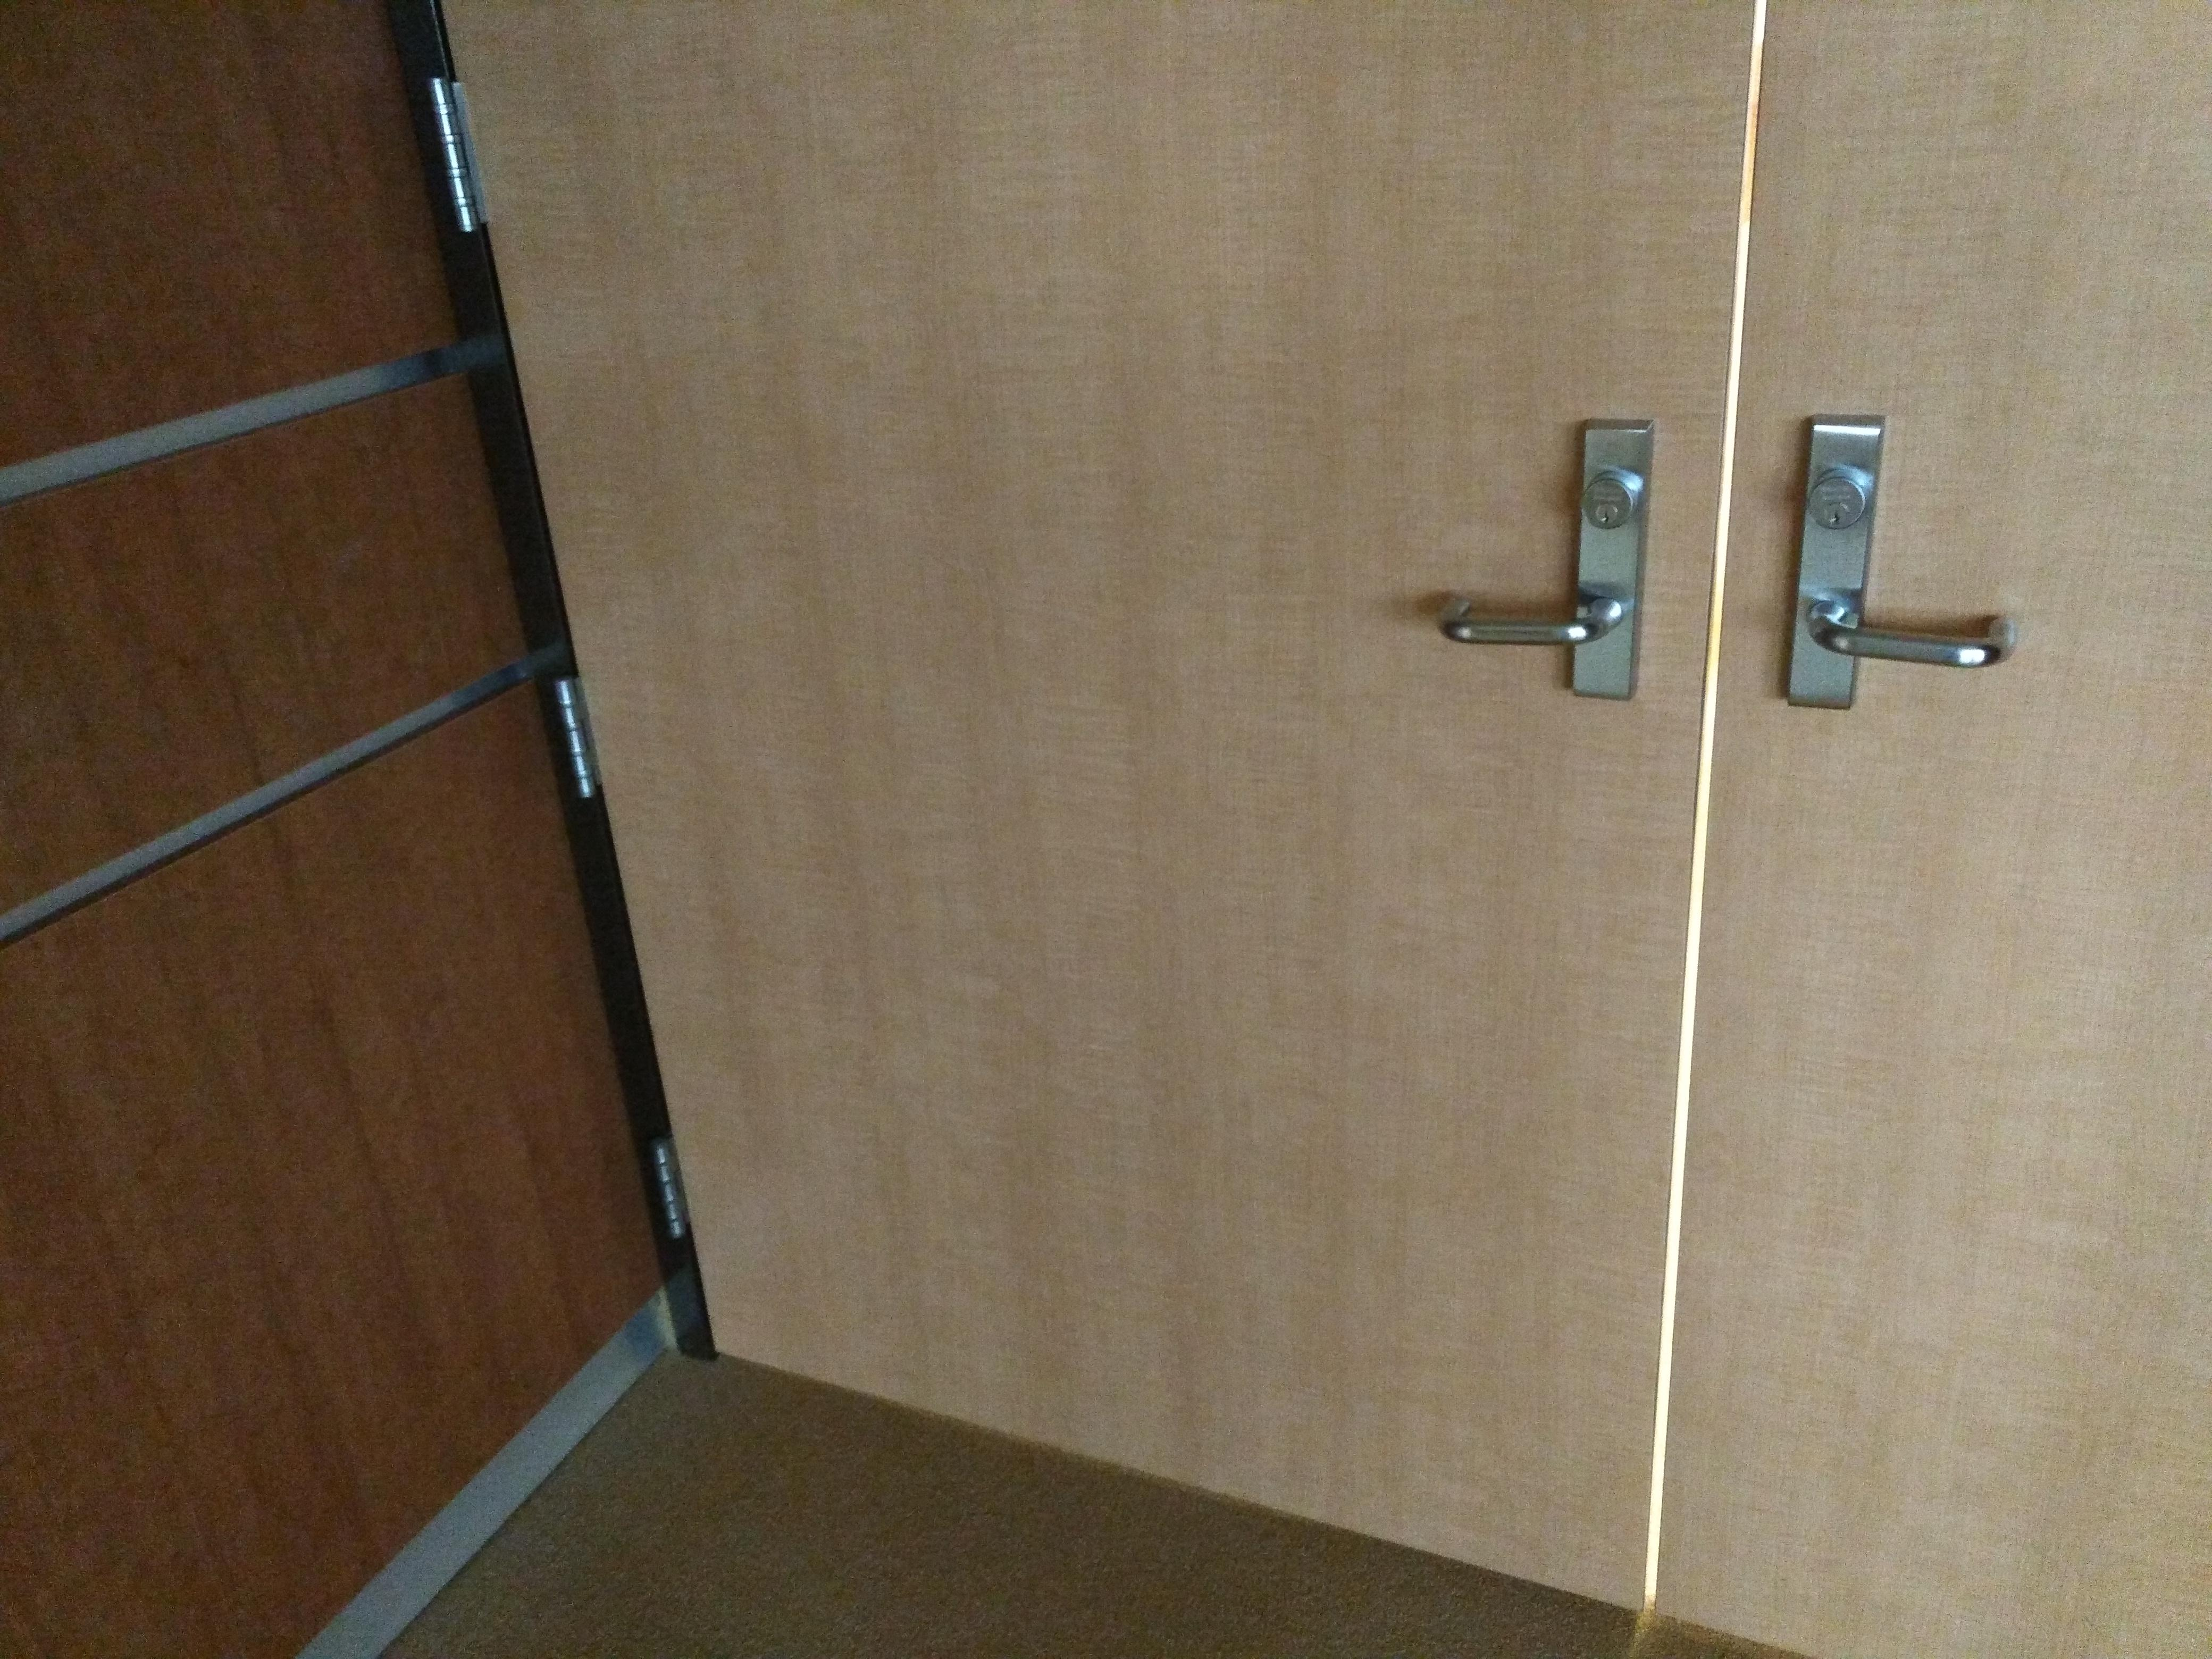door: (347, 12, 2212, 1657)
